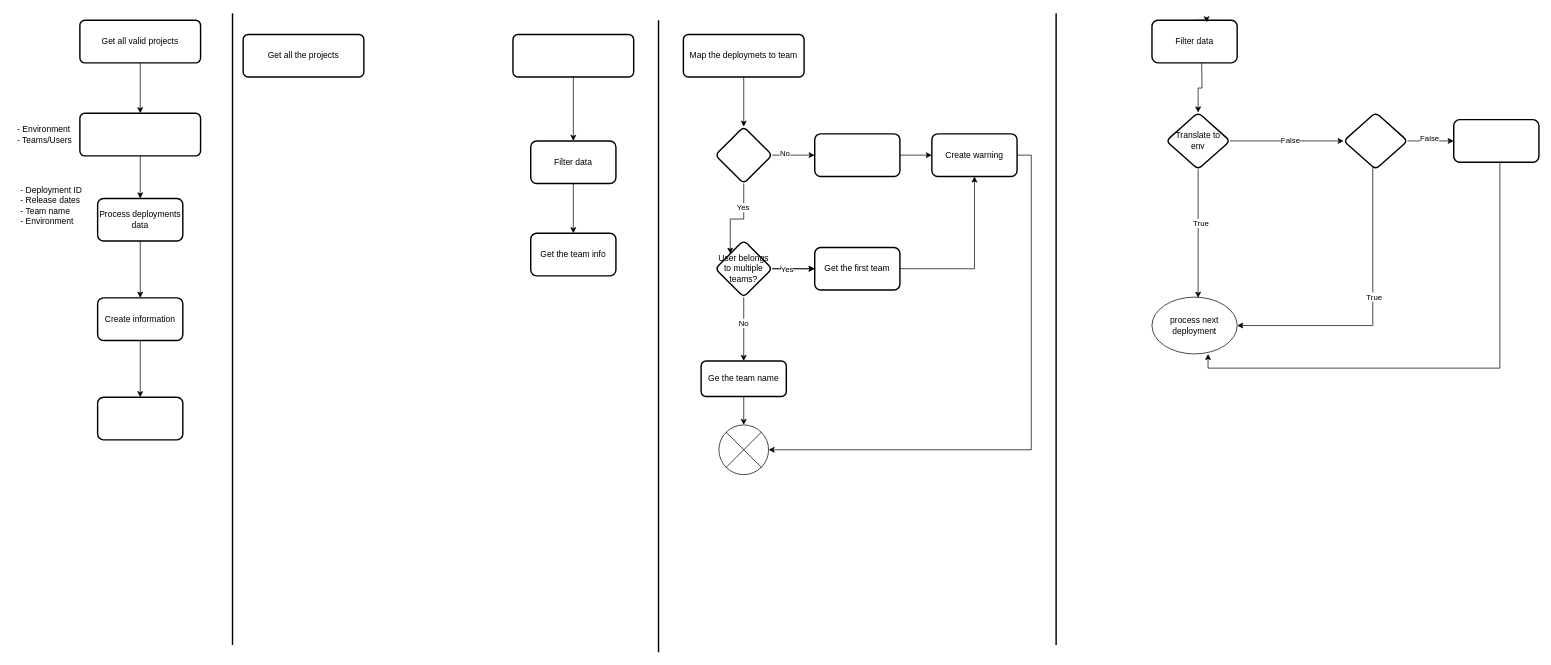
Image size: 1551x665. Some labels were removed from this diagram. Here are the shapes that lost their labels. From the top down, the box of each, then its label:
(512, 33, 634, 77): Get all the deployments
(79, 112, 201, 156): Get valid deployments
(1343, 111, 1408, 170): is to be excluded
(1453, 119, 1539, 163): log alert unknown environment
(714, 126, 772, 184): User belongs to team?
(814, 133, 900, 177): Get the user
(97, 396, 183, 440): Publish Information
